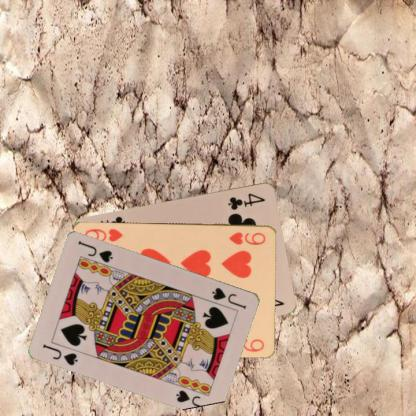4c: (226, 190, 266, 211)
9h: (226, 230, 267, 246)
Js: (40, 341, 80, 367), (209, 284, 248, 310)
